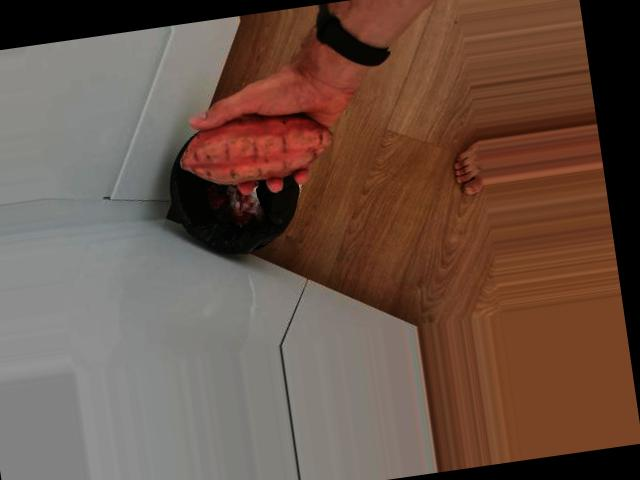sweet_potato: (177, 102, 342, 188)
